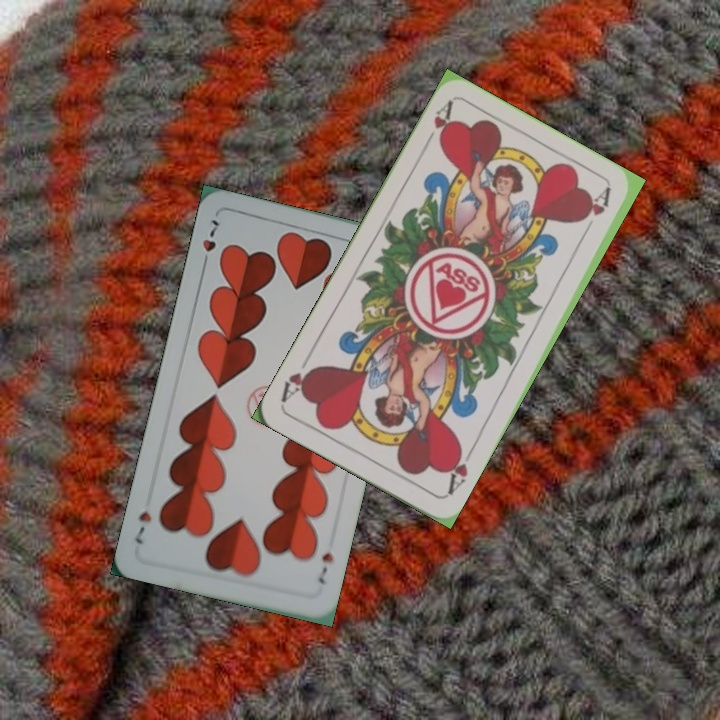H7: (198, 215, 222, 271), (314, 548, 336, 587)
HA: (419, 98, 456, 153), (442, 440, 476, 498)
